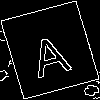A: (25, 25, 74, 79)
